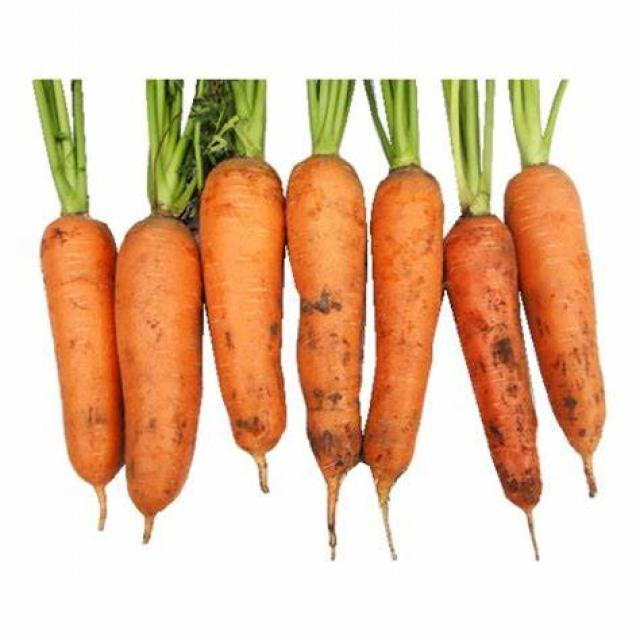Carrot: (503, 161, 623, 497), (442, 210, 544, 559), (286, 154, 366, 554), (369, 164, 450, 557), (112, 210, 208, 538), (194, 158, 284, 488), (34, 208, 121, 536)
